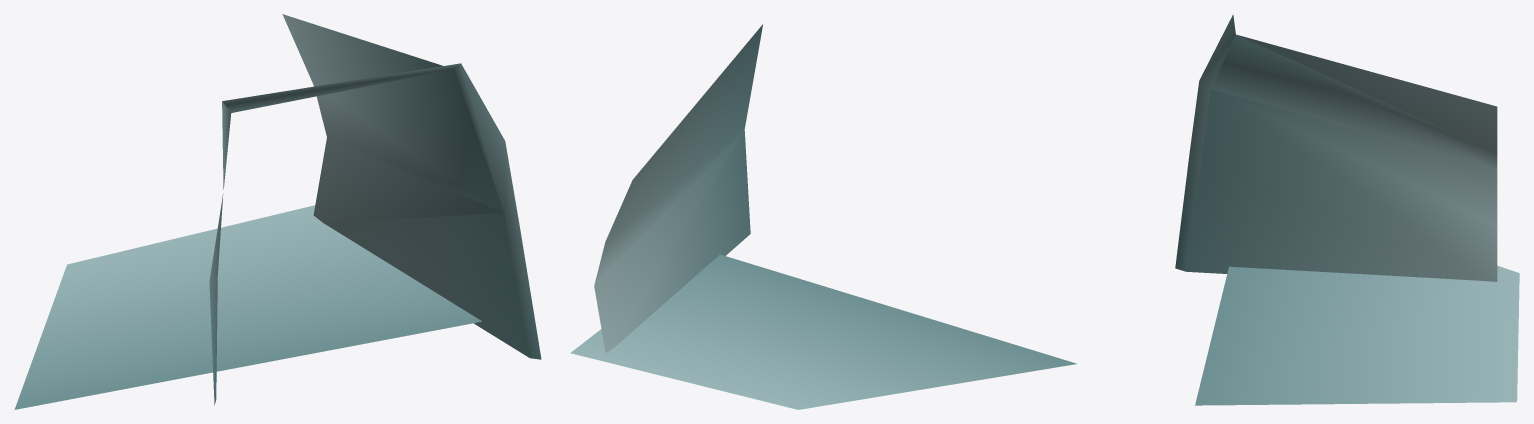
File: EntryCaveIntro.glb
3 views of the same model, side by side, from view 1: azimuth 30°, elevation 25°; view 2: azimuth 150°, elevation 25°; view 3: azimuth 270°, elevation 25° (orthographic). The views are drawn at different scales.
Visible parts, largest first — view 1: EntryCaveIntro; view 2: EntryCaveIntro; view 3: EntryCaveIntro.
Part boxes in pixels (x1=…): EntryCaveIntro: x1=14, y1=14, x2=541, y2=409; EntryCaveIntro: x1=570, y1=24, x2=1076, y2=409; EntryCaveIntro: x1=1175, y1=14, x2=1519, y2=405.
Bounding box in the file's own units: 5.08 × 3 × 3.97.
